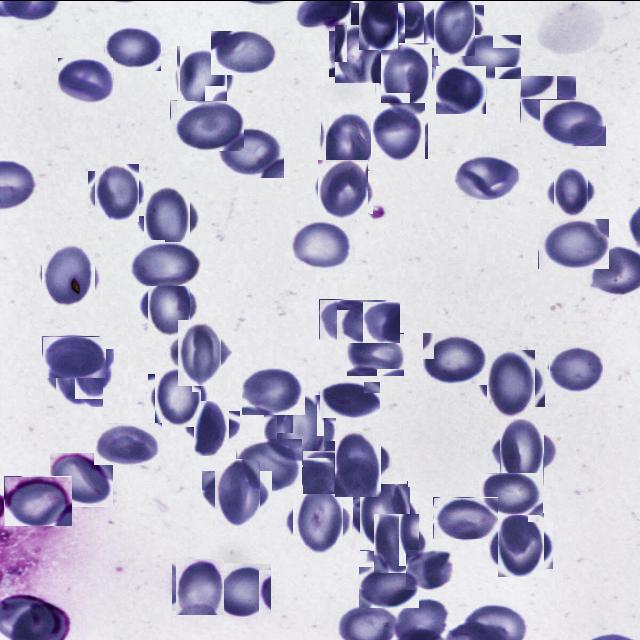red blood cell: (170, 99, 244, 150), (538, 217, 609, 268), (270, 400, 330, 460), (354, 486, 414, 546), (236, 438, 302, 492), (288, 489, 348, 548), (422, 331, 488, 384), (50, 452, 113, 506), (4, 475, 72, 525), (218, 126, 284, 177), (482, 353, 540, 411), (208, 464, 266, 522), (40, 246, 98, 304), (369, 102, 426, 160), (51, 343, 108, 401), (290, 219, 355, 269), (378, 44, 435, 101), (130, 240, 201, 285), (319, 113, 376, 169), (331, 434, 386, 492), (140, 189, 196, 245), (494, 423, 550, 479), (493, 517, 549, 572), (174, 49, 230, 104), (540, 99, 606, 145), (242, 366, 305, 414), (316, 160, 370, 216), (172, 324, 226, 380), (216, 562, 271, 616), (456, 152, 518, 199), (211, 30, 277, 74), (457, 33, 521, 78), (94, 422, 162, 464), (336, 298, 400, 342), (152, 370, 206, 422), (174, 560, 227, 612), (370, 517, 423, 569), (433, 496, 498, 538), (143, 280, 195, 332), (332, 27, 384, 79), (549, 342, 603, 392), (520, 74, 576, 122), (479, 472, 543, 514), (42, 335, 106, 377), (91, 166, 142, 218), (58, 57, 113, 104), (358, 565, 419, 607), (428, 0, 479, 50), (105, 25, 161, 70), (346, 332, 404, 375), (436, 65, 486, 113), (302, 449, 356, 493), (319, 298, 374, 340), (319, 380, 380, 417), (189, 404, 235, 450), (354, 0, 401, 45), (406, 549, 454, 589), (550, 170, 592, 212)
